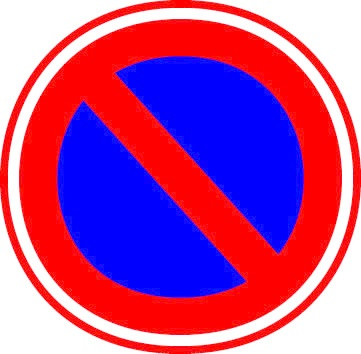Prohibition_sign: (3, 1, 358, 351)
